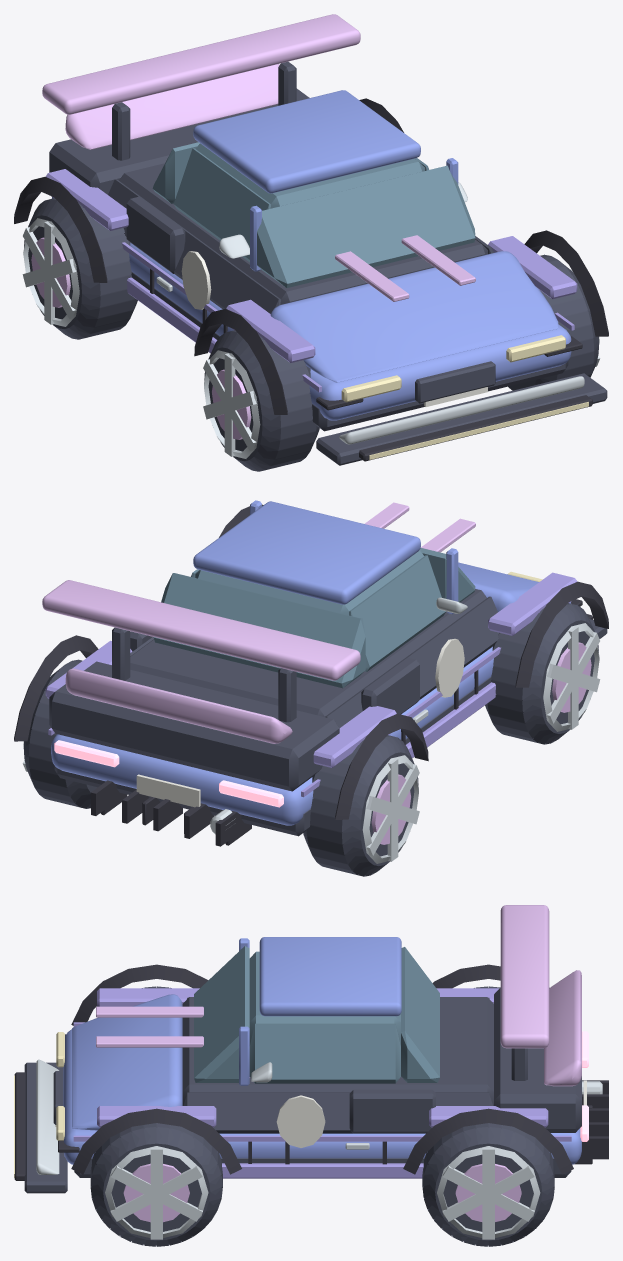
The model's file is finishline_fury.fbx.
3 renders of one model, top to bottom at view 1: azimuth 30°, elevation 25°; view 2: azimuth 150°, elevation 25°; view 3: azimuth 270°, elevation 25°, orthographic. The views are drawn at different scales.
Parts seen in each view (by area): view 1: Body, Trim2, Glass, Accent3, Trim, Accent, Metal, Wheel_FR, Wheel_RR, Accent4, Light, Wheel_FL (+3 smaller); view 2: Trim2, Body, Accent3, Glass, Trim, Metal, Accent, Wheel_RR, Wheel_FR, Wheel_RL, Accent2, Light2 (+2 smaller); view 3: Body, Trim2, Glass, Trim, Accent3, Metal, Accent, Wheel_FL, Wheel_RL, Accent4, Light3, Metal2 (+3 smaller).
Part boxes in pixels (left/top/right/bottom): Body: left=52, top=90, right=571, bottom=420; Trim2: left=49, top=61, right=607, bottom=465; Glass: left=152, top=142, right=475, bottom=287; Accent3: left=42, top=14, right=360, bottom=149; Trim: left=14, top=98, right=608, bottom=461; Accent: left=45, top=169, right=577, bottom=392; Metal: left=22, top=218, right=600, bottom=458; Wheel_FR: left=204, top=330, right=319, bottom=471; Wheel_RR: left=24, top=198, right=137, bottom=339; Accent4: left=219, top=182, right=584, bottom=444; Light: left=341, top=335, right=588, bottom=459; Wheel_FL: left=508, top=254, right=599, bottom=390; Trim2: left=49, top=589, right=607, bottom=836; Body: left=51, top=500, right=570, bottom=825; Accent3: left=42, top=580, right=360, bottom=743; Glass: left=153, top=548, right=475, bottom=688; Trim: left=14, top=504, right=608, bottom=846; Metal: left=22, top=623, right=600, bottom=863; Accent: left=45, top=572, right=577, bottom=797; Wheel_RR: left=303, top=735, right=418, bottom=876; Wheel_FR: left=485, top=603, right=598, bottom=744; Wheel_RL: left=23, top=659, right=97, bottom=808; Accent2: left=136, top=638, right=464, bottom=807; Light2: left=54, top=740, right=283, bottom=807; Body: left=63, top=937, right=581, bottom=1164; Trim2: left=24, top=987, right=581, bottom=1193; Glass: left=194, top=946, right=439, bottom=1083; Trim: left=14, top=964, right=608, bottom=1180; Accent3: left=249, top=905, right=581, bottom=1086; Metal: left=105, top=1081, right=602, bottom=1239; Accent: left=73, top=988, right=571, bottom=1178; Wheel_FL: left=90, top=1123, right=222, bottom=1246; Wheel_RL: left=422, top=1123, right=554, bottom=1246; Accent4: left=36, top=1059, right=272, bottom=1174; Light3: left=96, top=1006, right=203, bottom=1047; Metal2: left=123, top=1163, right=521, bottom=1222.
Bounding box in the file's own units: 3.21 × 1.99 × 5.18.
